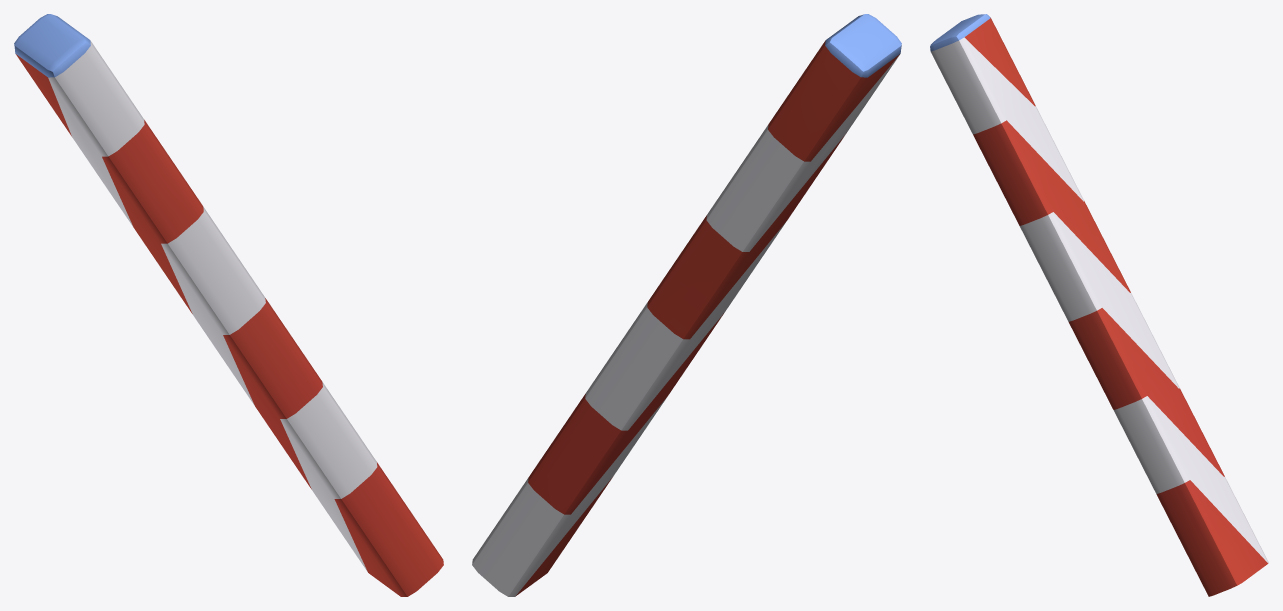
The model's file is barie.fbx.
3 views of the same model, side by side, from view 1: azimuth 30°, elevation 25°; view 2: azimuth 150°, elevation 25°; view 3: azimuth 330°, elevation 25° (orthographic). The views are drawn at different scales.
Parts seen in each view (by area): view 1: barie; view 2: barie; view 3: barie.
Boxes of the visible parts, x1=… form: barie: x1=14, y1=14, x2=443, y2=596; barie: x1=472, y1=14, x2=901, y2=596; barie: x1=930, y1=14, x2=1268, y2=596.
Size of the model in its own units: 119 by 182 by 22.38.
